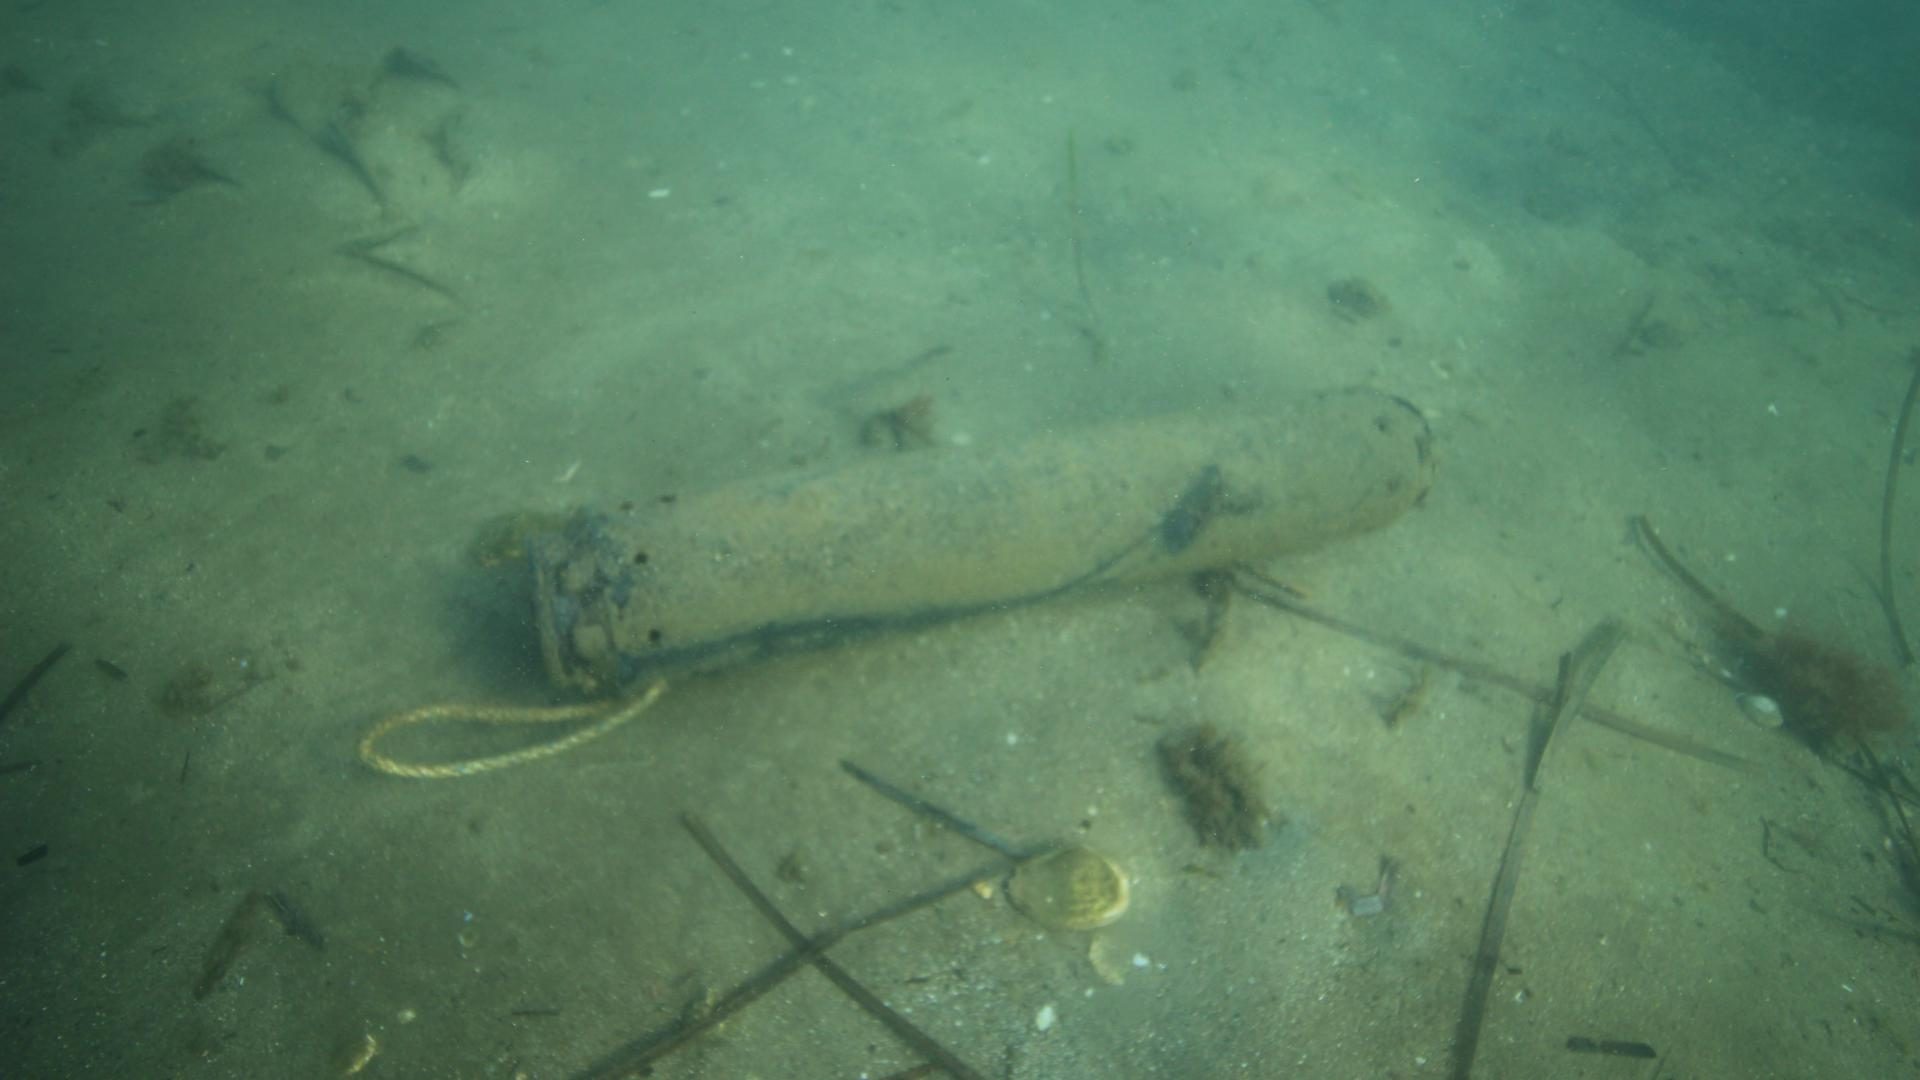bundle of ropes: (355, 680, 665, 781)
eel fish trap: (524, 384, 1443, 694)
